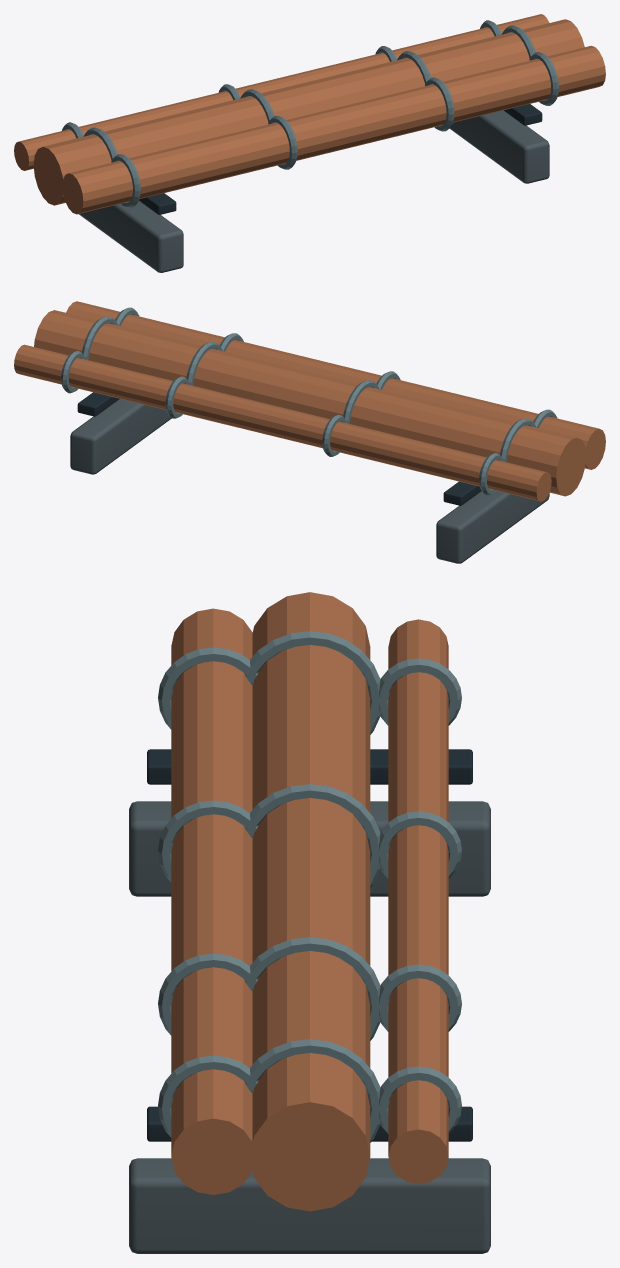
The model's file is SM_RainPipeBank.glb.
3 views of the same model, one above another, from view 1: azimuth 30°, elevation 25°; view 2: azimuth 150°, elevation 25°; view 3: azimuth 270°, elevation 25° (orthographic). The views are drawn at different scales.
Visible parts, largest first — view 1: SM_RainPipeBank; view 2: SM_RainPipeBank; view 3: SM_RainPipeBank.
Boxes of the visible parts, x1,y1,x2,y2 form: SM_RainPipeBank: [14, 14, 605, 272]; SM_RainPipeBank: [14, 301, 605, 563]; SM_RainPipeBank: [129, 592, 490, 1253].
Bounding box in the file's own units: 10 × 2.11 × 3.
